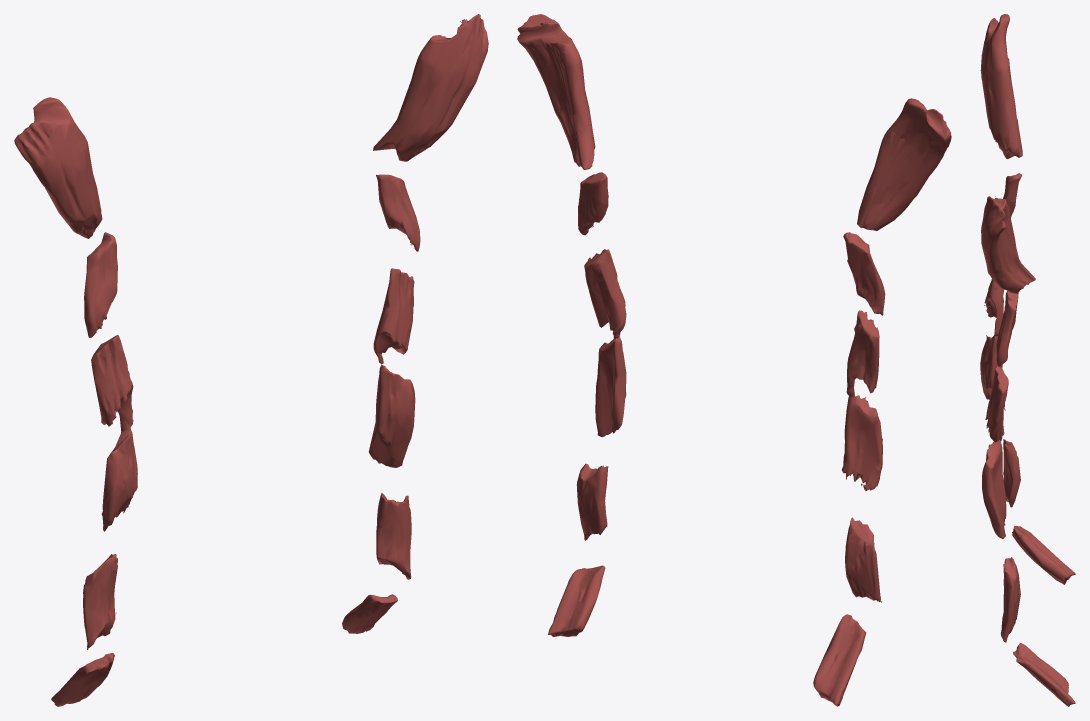
The model's file is FMA71442.glb.
3 renders of one model, left to right at view 1: azimuth 30°, elevation 25°; view 2: azimuth 150°, elevation 25°; view 3: azimuth 270°, elevation 25°, orthographic. The views are drawn at different scales.
Visible parts, largest first — view 1: FMA71442; view 2: FMA71442; view 3: FMA71442.
Boxes of the visible parts, left/top/right/bottom form: FMA71442: left=14, top=14, right=488, bottom=706; FMA71442: left=517, top=14, right=951, bottom=706; FMA71442: left=980, top=14, right=1075, bottom=706.
Size of the model in its own units: 0.0695 by 0.0909 by 0.0144.
